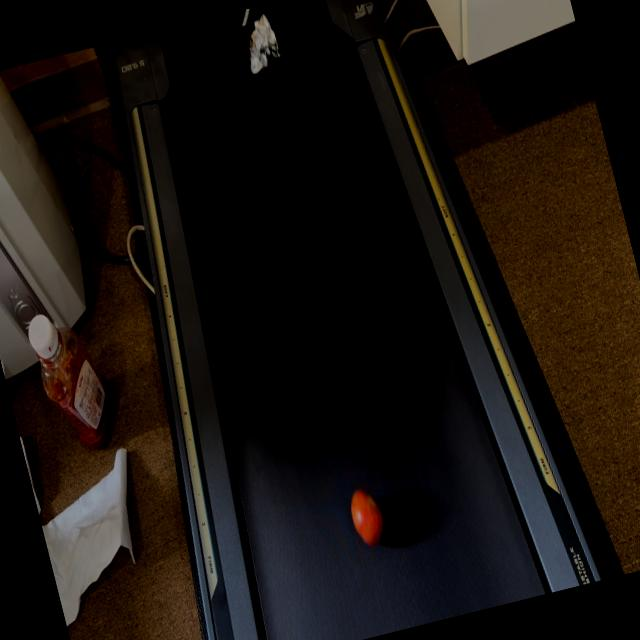Trash: (236, 5, 286, 80), (343, 482, 391, 554)
